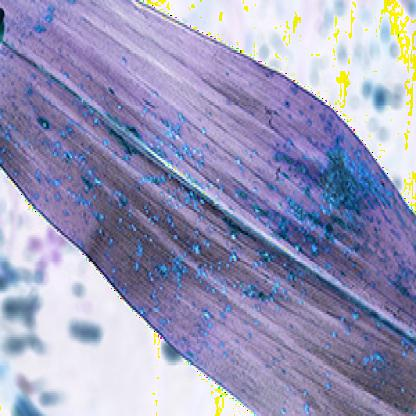corn rust leaf: (1, 2, 415, 414)
